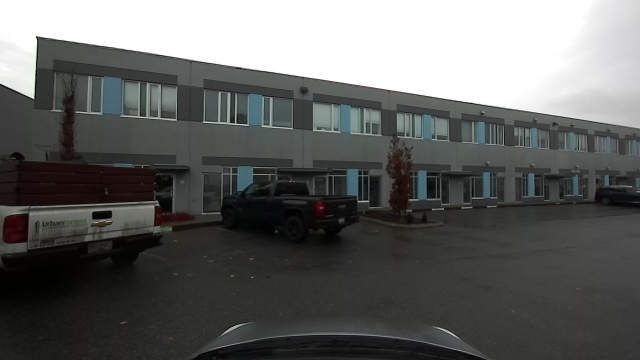car: (3, 163, 163, 274), (222, 180, 361, 241)
